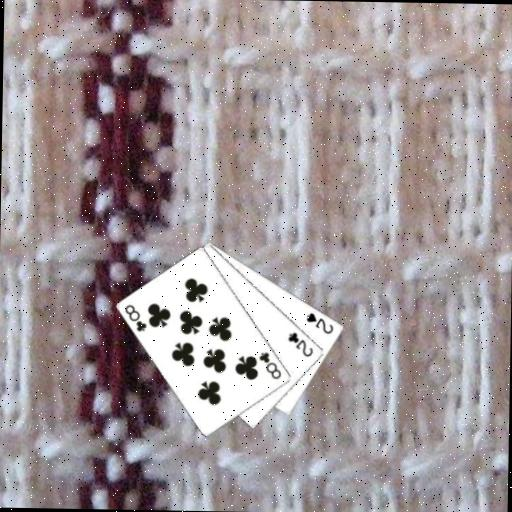2C: (285, 329, 316, 359)
2S: (304, 310, 336, 336)
8C: (256, 349, 284, 381), (122, 302, 149, 334)
